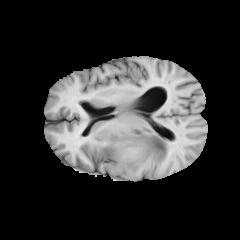glioma: (90, 127, 168, 176)
